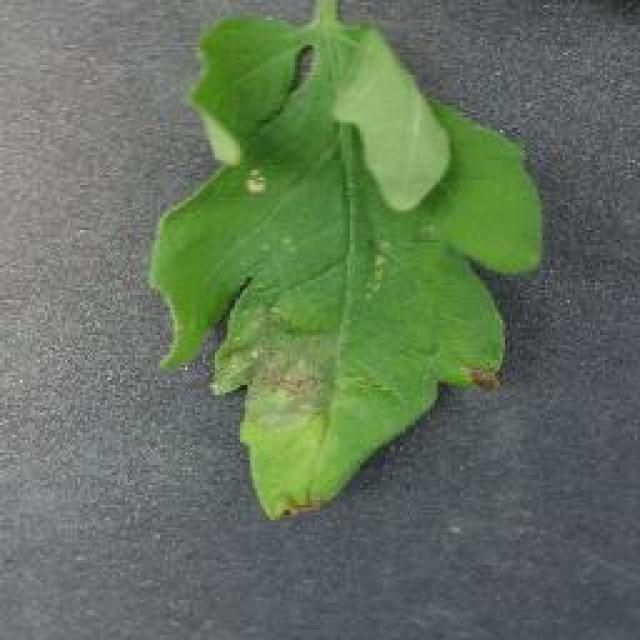Tomato Late Blight: (195, 185, 345, 458)
